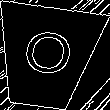O_S: (17, 29, 75, 85)
